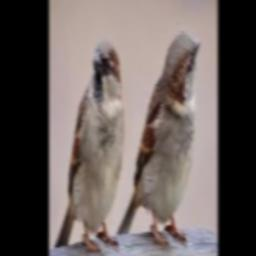Sparrow: (115, 32, 200, 248), (54, 38, 125, 254)
